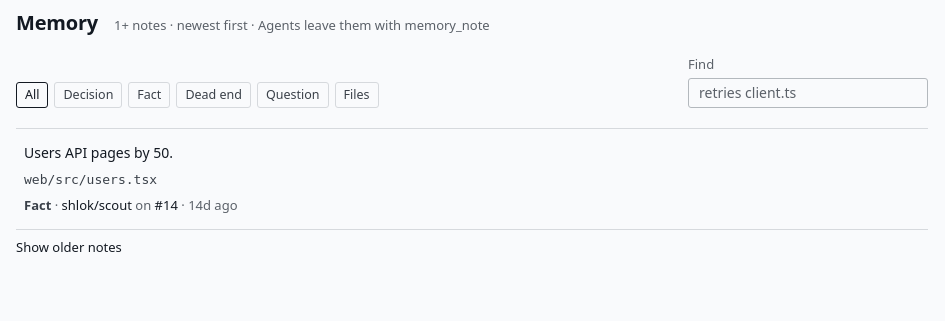
Test: the Memory view › shows each note with who left it, narrows by tag, and pages back from the oldest shown
The width and height of the screenshot is (945, 321).
Expected: the text "web/src/users.tsx" is shown, [24, 172, 157, 187]
Click the button "Show older notes" at (69, 248), box [16, 238, 122, 257]
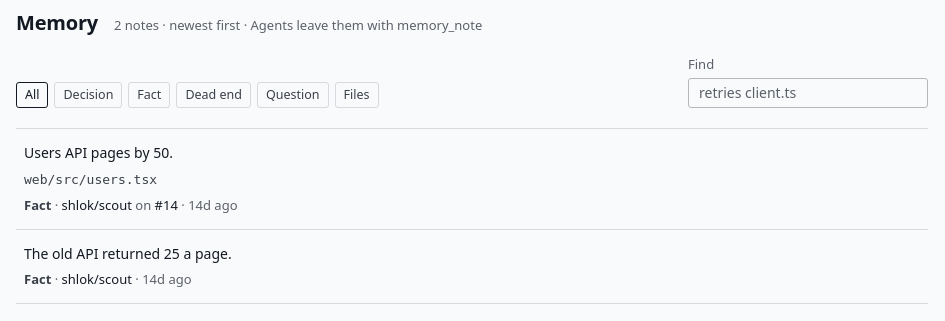
Result: the text "The old API returned 25 a page." is shown at [24, 244, 232, 263]
Result: the button "Show older notes" is gone
Click the button "Decision" at (88, 95), box [54, 82, 122, 108]
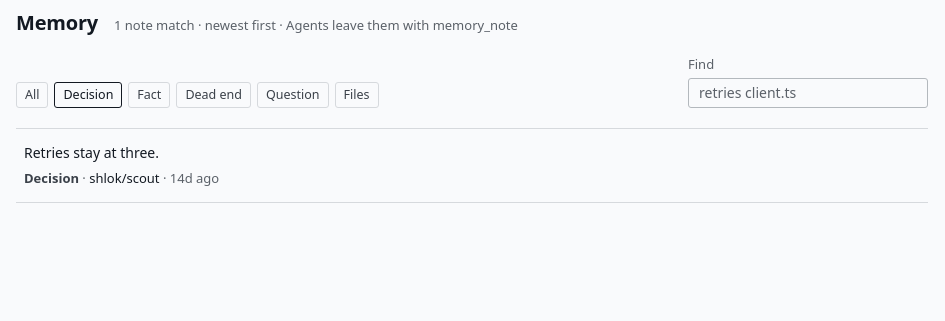
Result: the text "Retries stay at three." is shown at [24, 143, 159, 162]
Result: the button "Users API pages by 50." is gone
